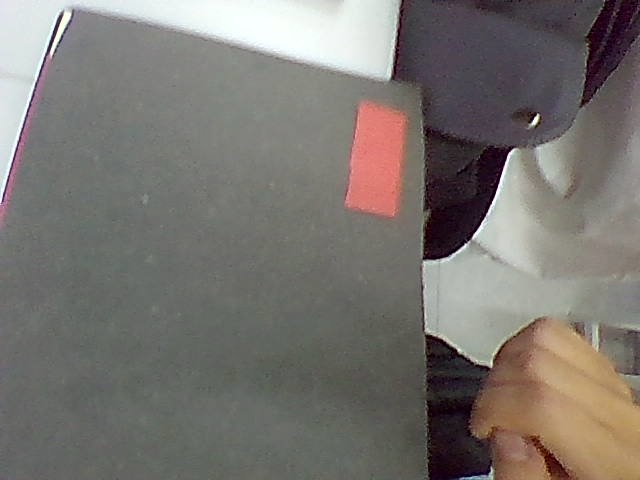card: (346, 102, 406, 217)
